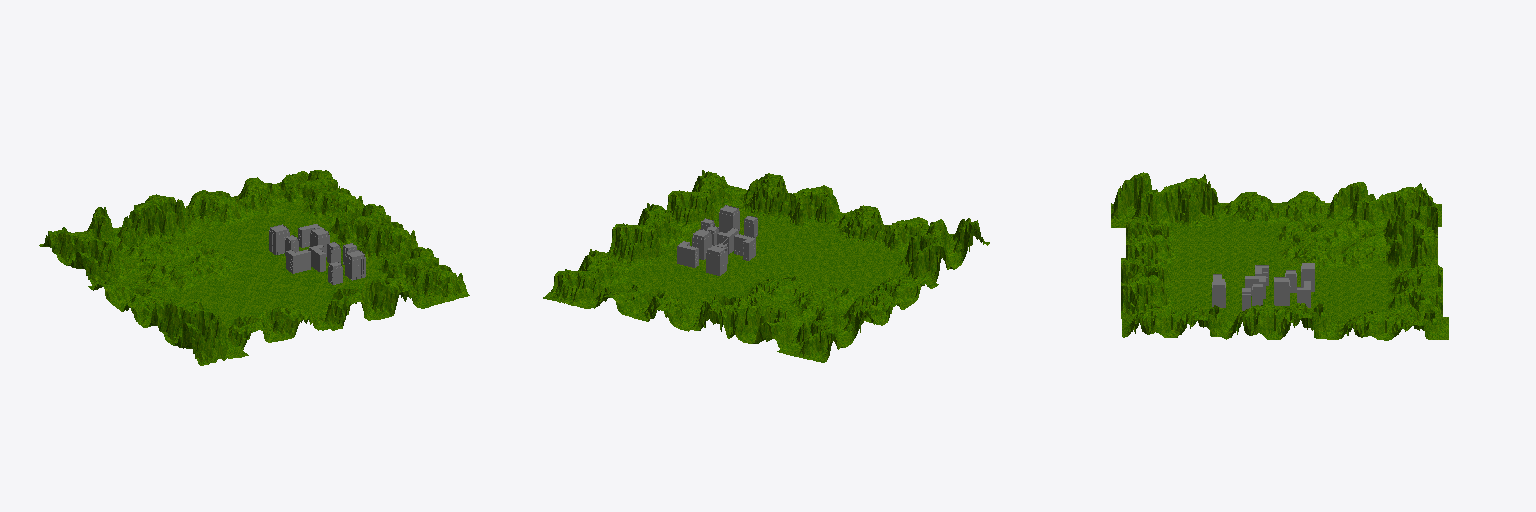
3 renders of one model, left to right at view 1: azimuth 30°, elevation 25°; view 2: azimuth 150°, elevation 25°; view 3: azimuth 270°, elevation 25°, orthographic.
Visible parts, largest first — view 1: Plane001, WS_free_terrain_001, default, Object001.001, Object002, default001.001, default001.002, Object002.002, default001, Object001, Object002.003, Object002.001 (+2 smaller); view 2: Plane001, Object002.002, WS_free_terrain_001, default, Object001.001, default001.001, default001, Object001, Object002.003, default001.002, Object002, Object002.001 (+1 smaller); view 3: Plane001, WS_free_terrain_001, Object001.001, Object001, default, default001.001, Object002.001, Object002.002, default001, default001.002, Object002, Object002.003.
Boxes of the visible parts, <box> form: Plane001: <box>116,205,387,332</box>; WS_free_terrain_001: <box>119,231,254,295</box>; default: <box>88,194,204,252</box>; Object001.001: <box>146,299,248,365</box>; Object002: <box>187,177,291,228</box>; default001.001: <box>328,204,417,264</box>; default001.002: <box>375,247,469,307</box>; Object002.002: <box>314,278,430,330</box>; default001: <box>277,170,364,226</box>; Object001: <box>39,227,134,285</box>; Object002.003: <box>227,306,331,352</box>; Object002.001: <box>88,276,165,327</box>; Plane001: <box>613,210,906,334</box>; Object002.002: <box>736,173,845,229</box>; WS_free_terrain_001: <box>735,271,868,327</box>; default: <box>692,294,799,351</box>; Object001.001: <box>896,218,989,284</box>; default001.001: <box>606,203,691,266</box>; default001: <box>543,249,641,308</box>; Object001: <box>777,303,880,362</box>; Object002.003: <box>827,205,929,251</box>; default001.002: <box>667,170,747,229</box>; Object002: <box>593,284,700,331</box>; Object002.001: <box>845,274,938,325</box>; Plane001: <box>1167,222,1395,318</box>; WS_free_terrain_001: <box>1277,220,1390,270</box>; Object001.001: <box>1111,172,1225,227</box>; Object001: <box>1327,182,1441,226</box>; default: <box>1383,205,1437,271</box>; default001.001: <box>1224,303,1336,339</box>; Object002.001: <box>1220,191,1330,223</box>; Object002.002: <box>1121,255,1175,318</box>; default001: <box>1335,308,1448,340</box>; default001.002: <box>1122,304,1231,337</box>; Object002: <box>1385,264,1442,318</box>; Object002.003: <box>1126,213,1179,266</box>.
Bounding box in the file's own units: 22.74 × 2.51 × 23.45.
5 materials, 1 textured.